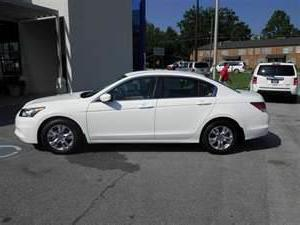Car: (13, 68, 276, 161)
